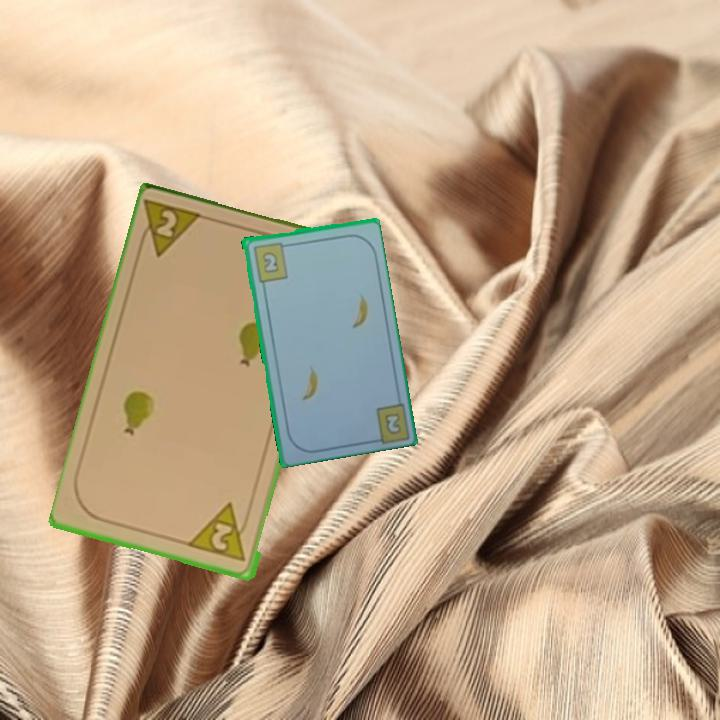2b: (249, 238, 291, 284), (381, 409, 403, 437)
2p: (134, 196, 208, 261), (187, 500, 252, 566)
